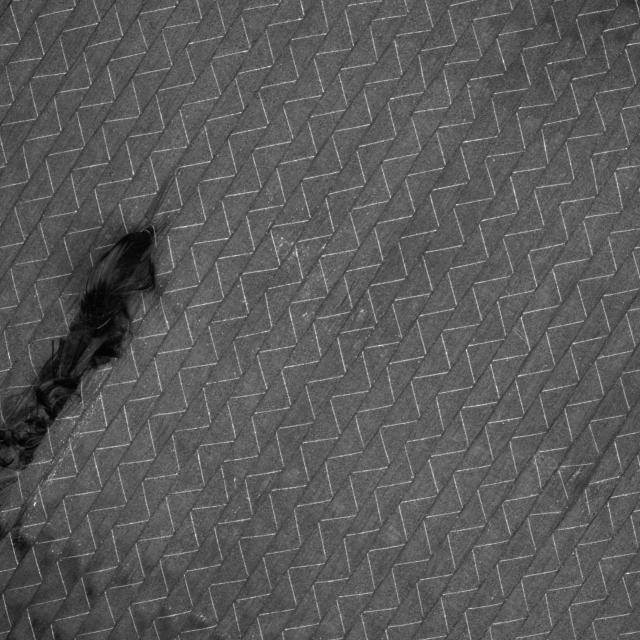carbon-fibre-defect: (4, 186, 205, 514), (537, 447, 621, 531)
